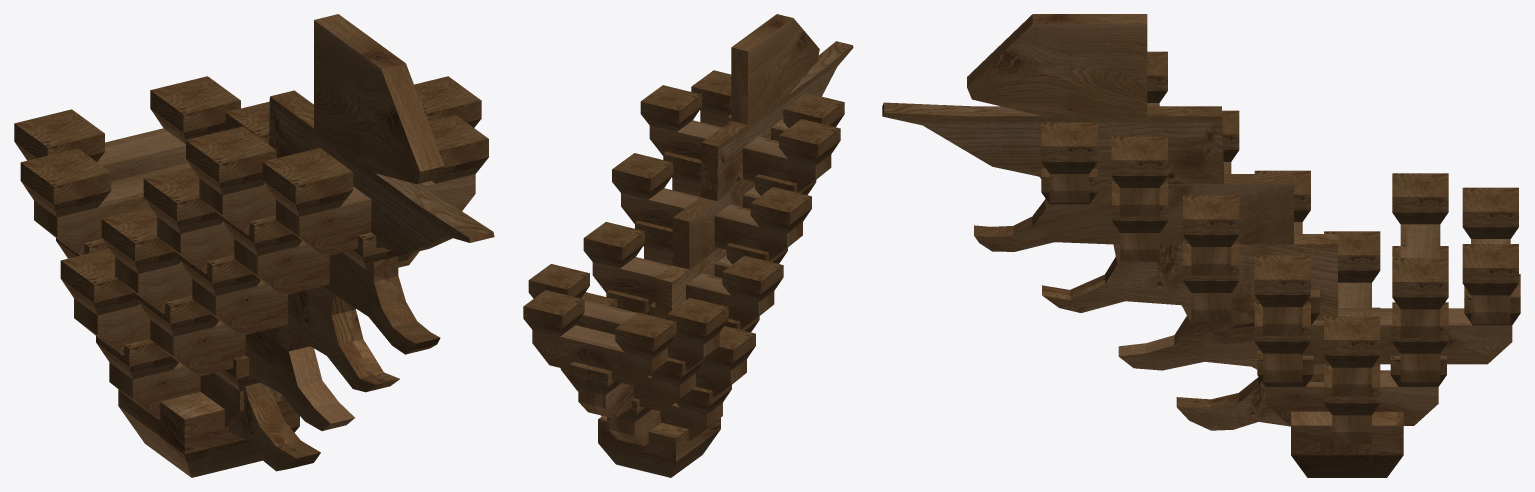
The model's file is SM_Sun_Gate_Gongpo_A.fbx.
The picture shows the model from 3 angles, left to right: view 1: azimuth 30°, elevation 25°; view 2: azimuth 150°, elevation 25°; view 3: azimuth 270°, elevation 25°; orthographic projection. The views are drawn at different scales.
Visible parts, largest first — view 1: SM_Sun_Gate_Gongpo_A; view 2: SM_Sun_Gate_Gongpo_A; view 3: SM_Sun_Gate_Gongpo_A.
Part boxes in pixels (x1,y1,x2,y2): SM_Sun_Gate_Gongpo_A: (14, 14, 494, 477); SM_Sun_Gate_Gongpo_A: (523, 14, 853, 477); SM_Sun_Gate_Gongpo_A: (882, 14, 1520, 477).
Size of the model in its own units: 63.91 by 121 by 159.
